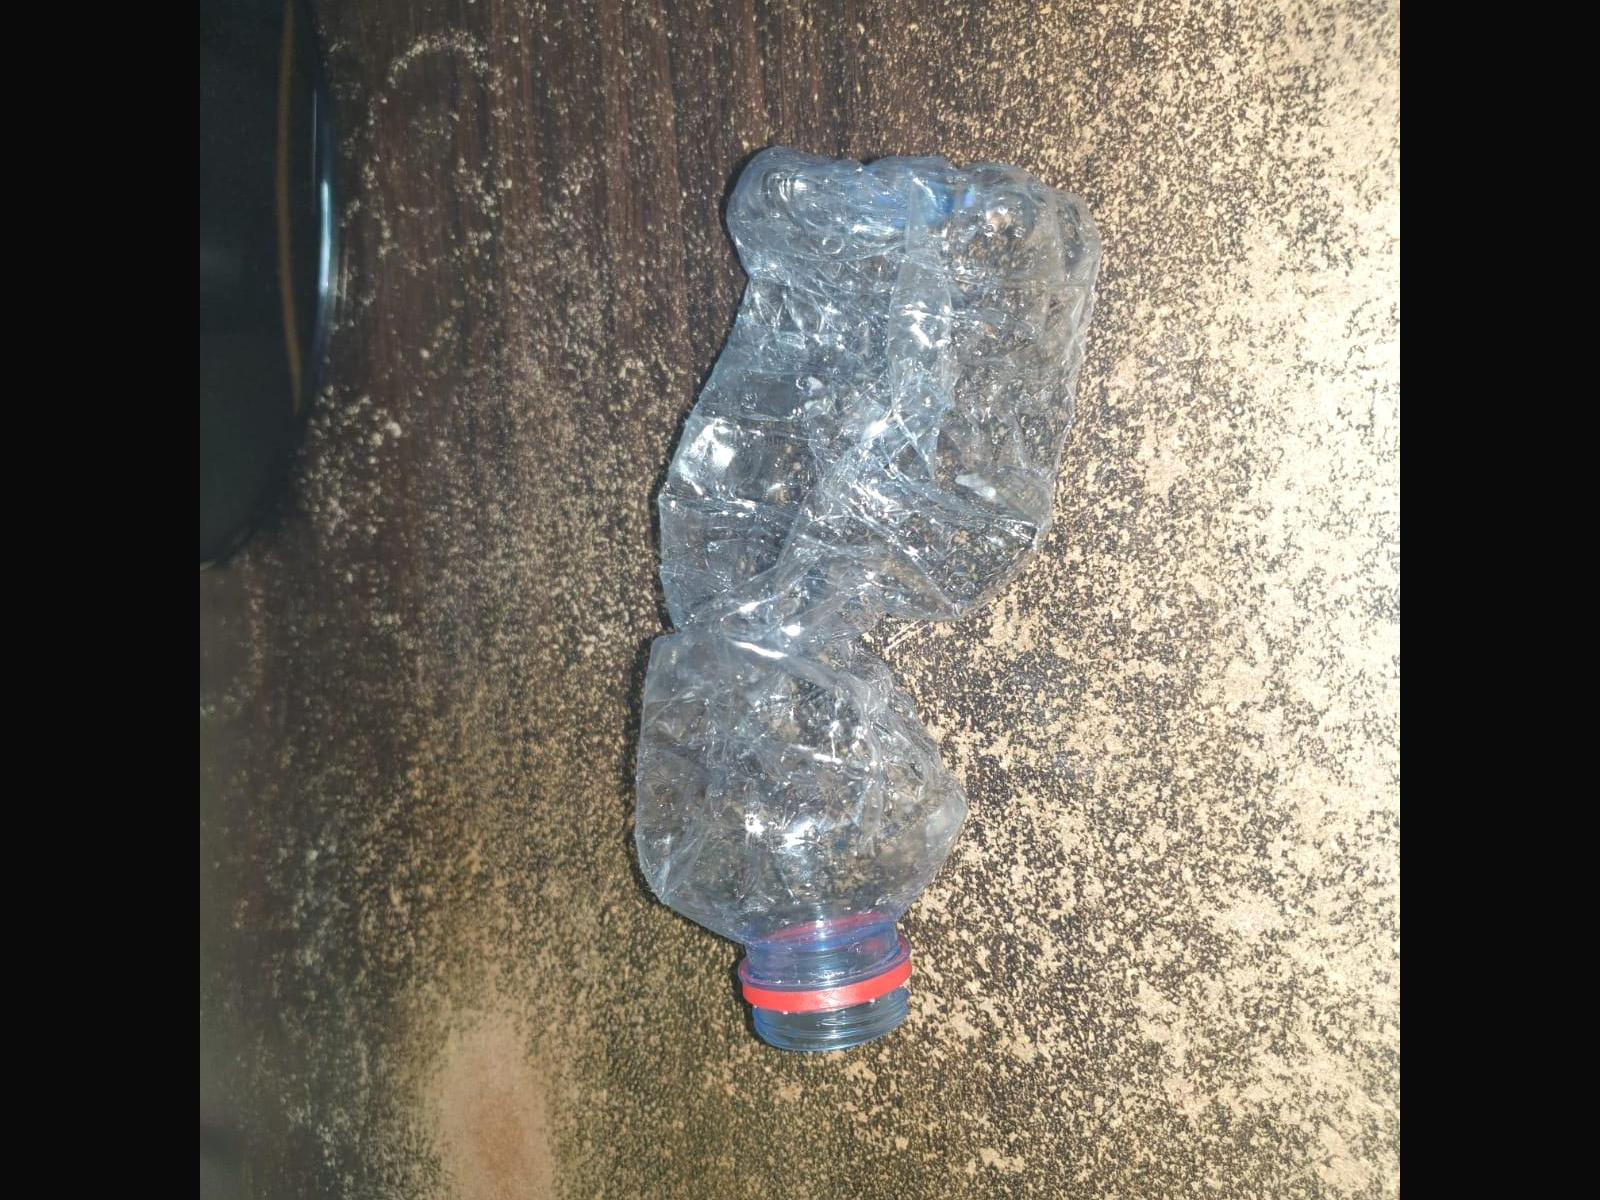bottle: (624, 145, 1120, 1058)
